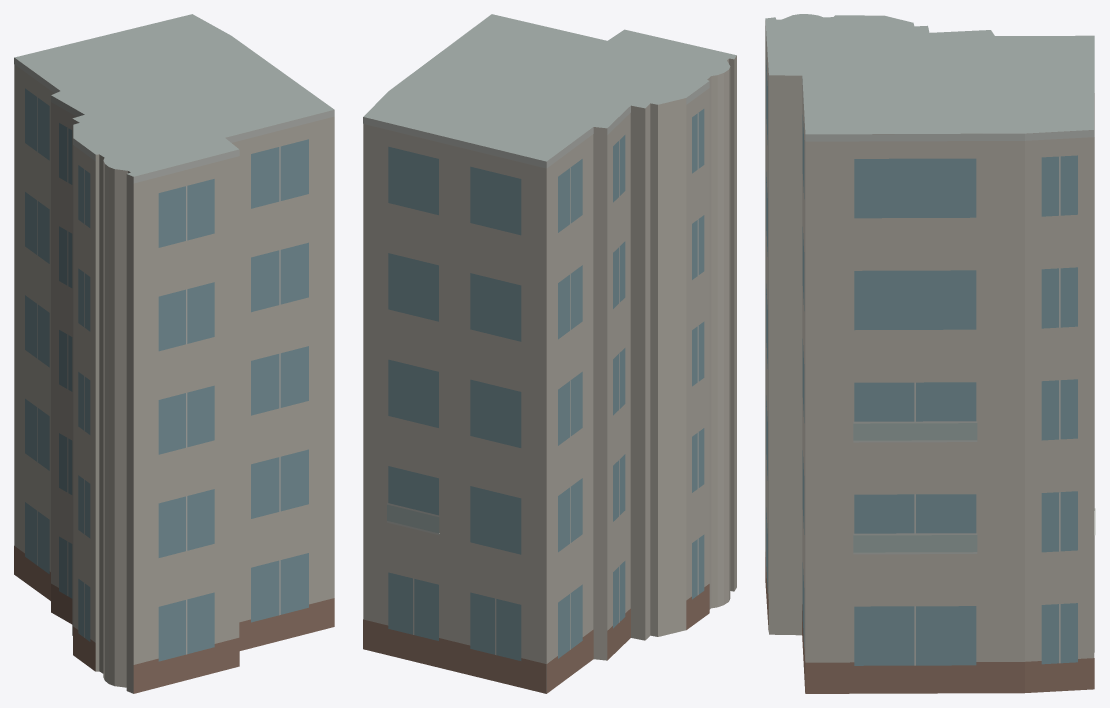
The model's file is survey-upis-32966801.glb.
3 renders of one model, left to right at view 1: azimuth 30°, elevation 25°; view 2: azimuth 150°, elevation 25°; view 3: azimuth 270°, elevation 25°, orthographic. The views are drawn at different scales.
Parts seen in each view (by area): view 1: survey-upis-32966801.tmp; view 2: survey-upis-32966801.tmp; view 3: survey-upis-32966801.tmp.
Part boxes in pixels (box(x1,y1,x2,y2)): survey-upis-32966801.tmp: box(14, 14, 334, 693); survey-upis-32966801.tmp: box(363, 14, 736, 693); survey-upis-32966801.tmp: box(765, 14, 1095, 693).
Bounding box in the file's own units: 8.64 × 18.65 × 9.99.
